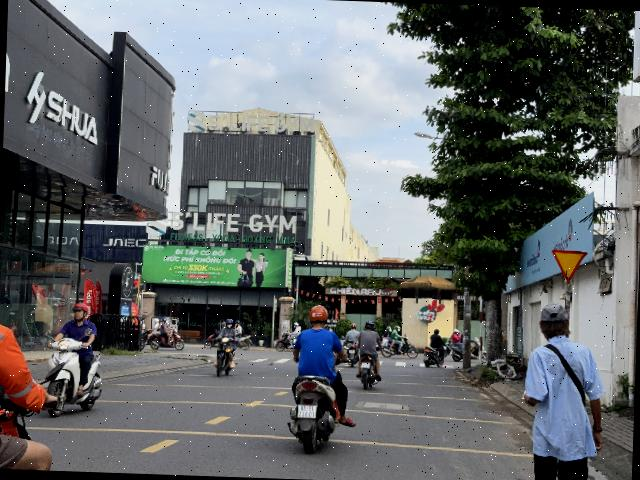giao-nhau-voi-duong-uu-tien: (550, 248, 588, 284)
